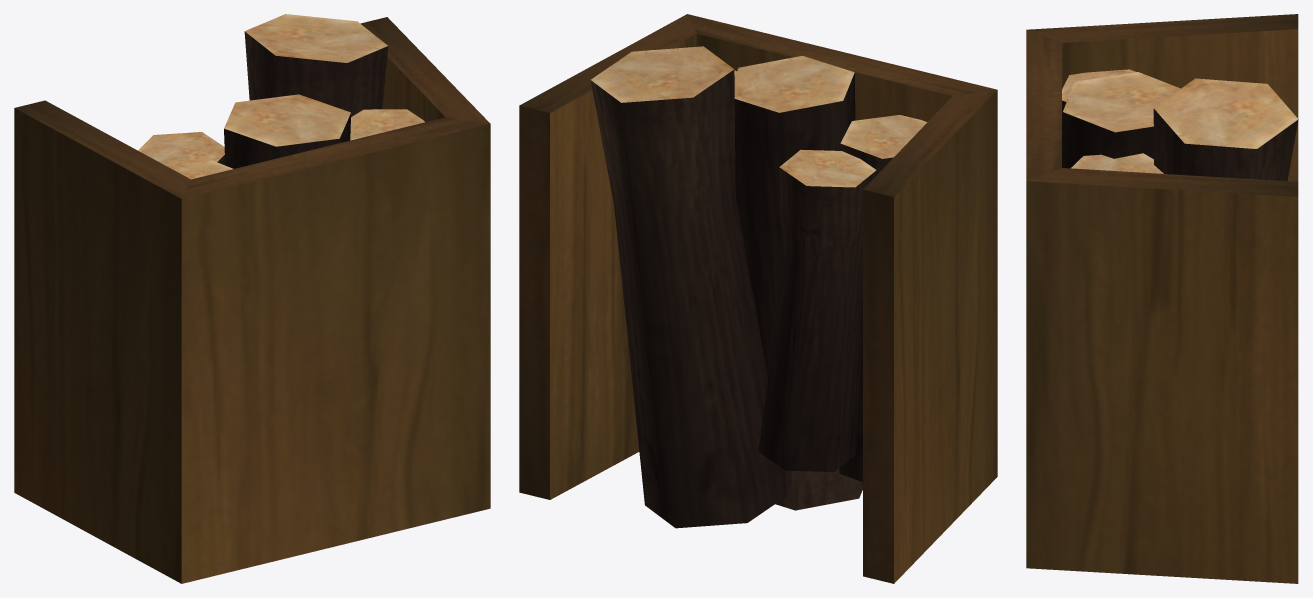
The model's file is Wood_Log_stack_B.fbx.
The picture shows the model from 3 angles, left to right: view 1: azimuth 30°, elevation 25°; view 2: azimuth 150°, elevation 25°; view 3: azimuth 270°, elevation 25°; orthographic projection.
Visible parts, largest first — view 1: Wood_Log_stack_B; view 2: Wood_Log_stack_B; view 3: Wood_Log_stack_B.
Boxes of the visible parts, box(x1,y1,x2,y2) form: Wood_Log_stack_B: box(14, 14, 490, 583); Wood_Log_stack_B: box(519, 14, 997, 583); Wood_Log_stack_B: box(1026, 14, 1298, 583).
Bounding box in the file's own units: 8.28 × 9.2 × 5.21.
